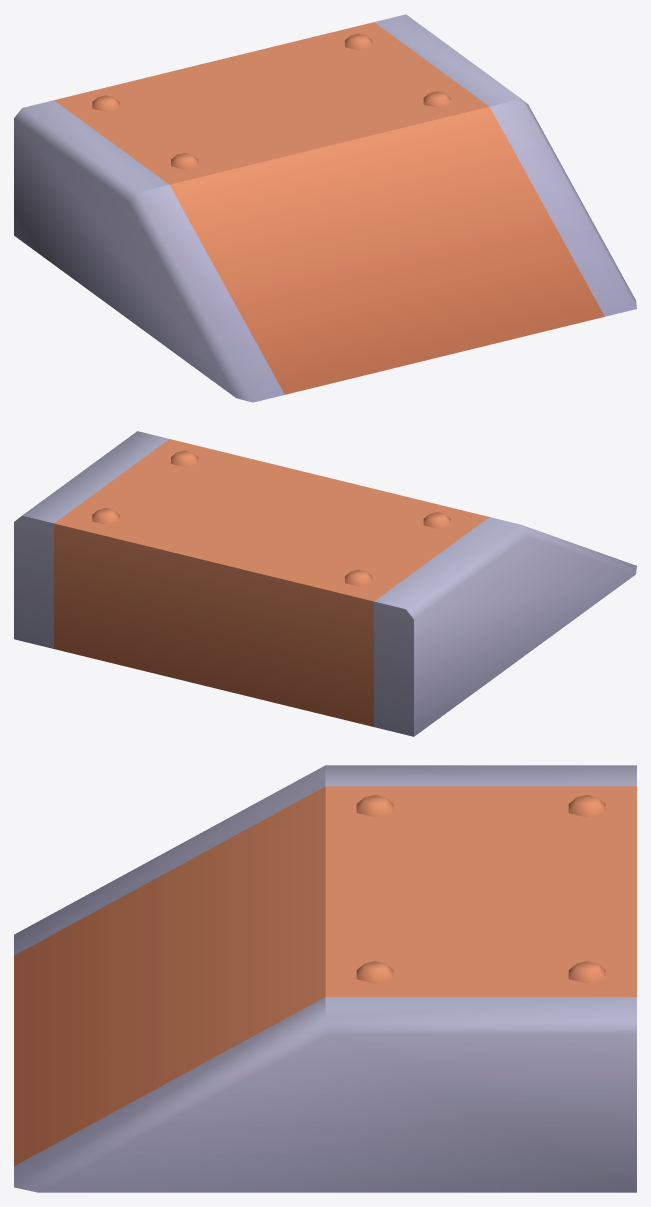
The model's file is ramp.glb.
The picture shows the model from 3 angles, top to bottom: view 1: azimuth 30°, elevation 25°; view 2: azimuth 150°, elevation 25°; view 3: azimuth 270°, elevation 25°; orthographic projection. The views are drawn at different scales.
Visible parts, largest first — view 1: ramp; view 2: ramp; view 3: ramp.
Boxes of the visible parts, bbox=[...] form: ramp: bbox=[14, 14, 636, 402]; ramp: bbox=[14, 431, 636, 736]; ramp: bbox=[14, 765, 636, 1192].
Size of the model in its own units: 1 by 0.3149 by 1.
1 material, 1 textured.
